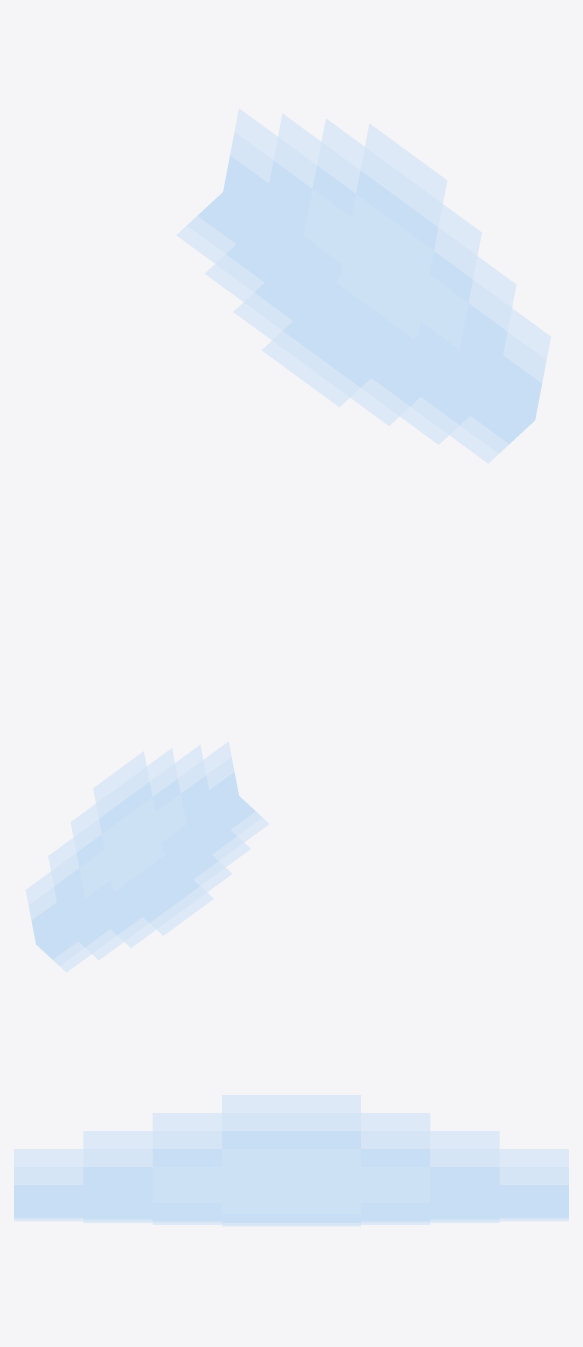
3 renders of one model, top to bottom at view 1: azimuth 30°, elevation 25°; view 2: azimuth 150°, elevation 25°; view 3: azimuth 270°, elevation 25°, orthographic. The views are drawn at different scales.
Size of the model in its own units: 1 by 0.5088 by 1.
1 material, 1 textured.
